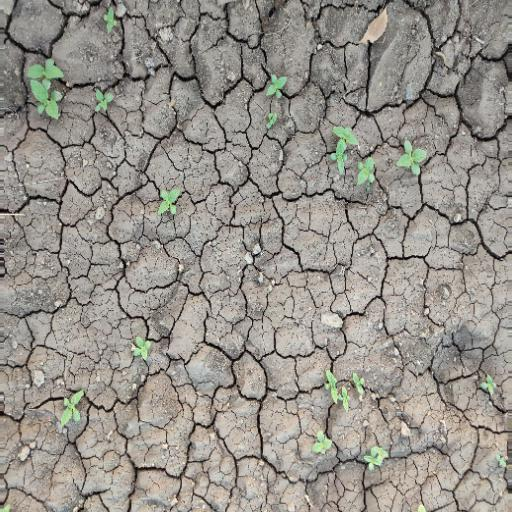crop: (18, 52, 123, 132), (331, 112, 433, 194), (299, 434, 402, 475), (44, 383, 97, 433), (256, 63, 291, 136), (310, 371, 371, 405), (120, 327, 162, 366), (153, 178, 184, 222)
